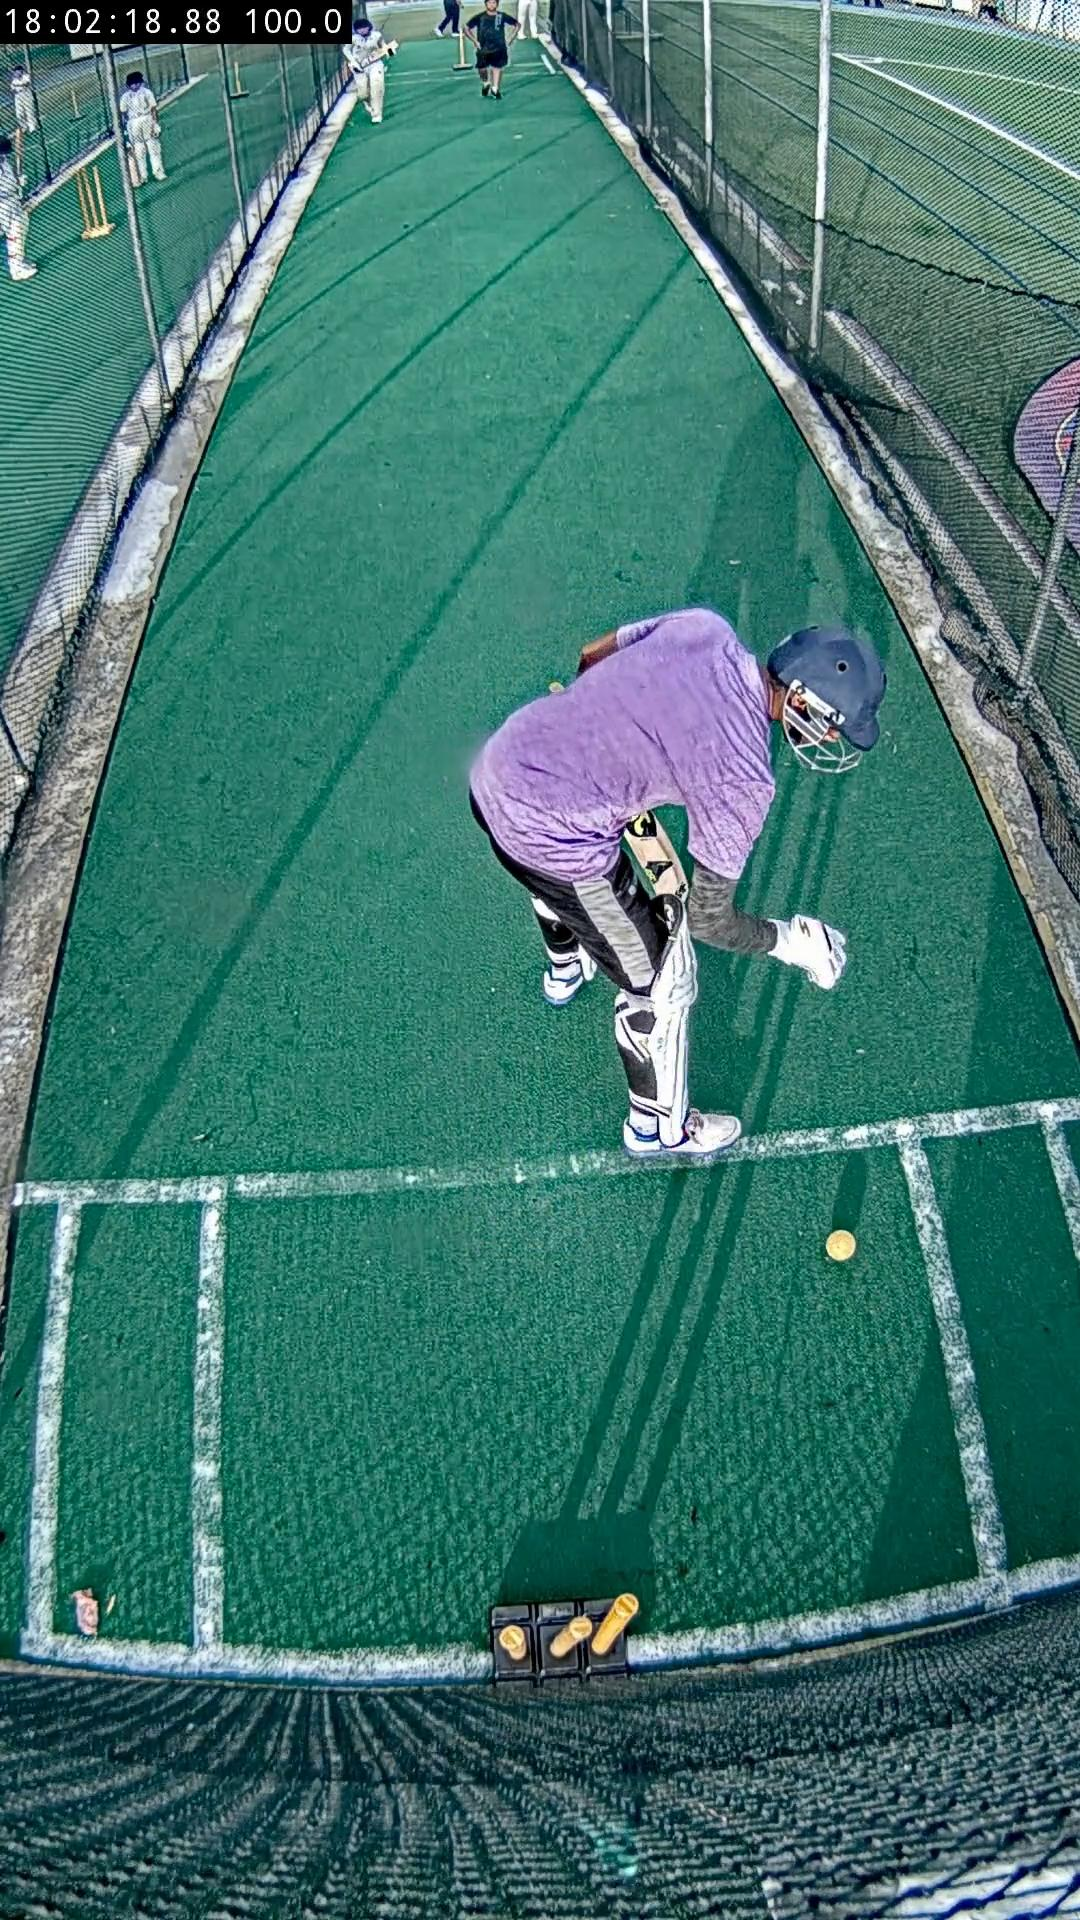ball: (825, 1230, 858, 1263)
bat: (622, 810, 686, 897)
gloves: (769, 915, 848, 990)
helmet: (769, 626, 885, 750)
pads: (645, 903, 698, 1147)
stumps: (492, 1594, 641, 1680)
